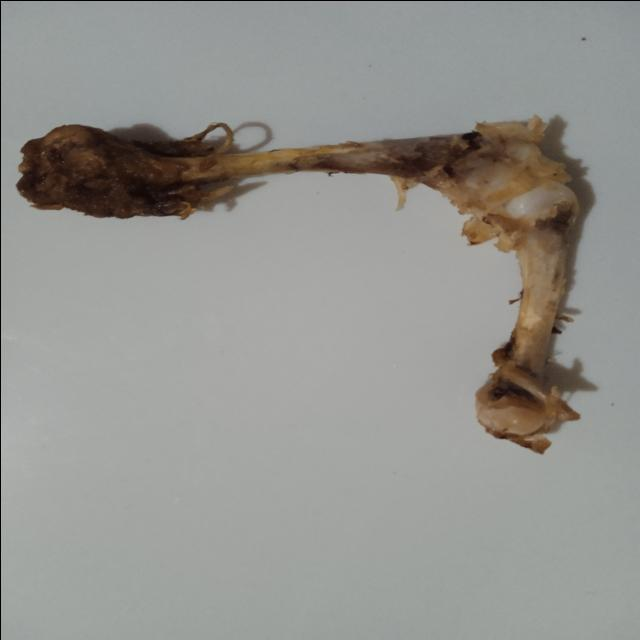bone: (11, 119, 582, 458)
